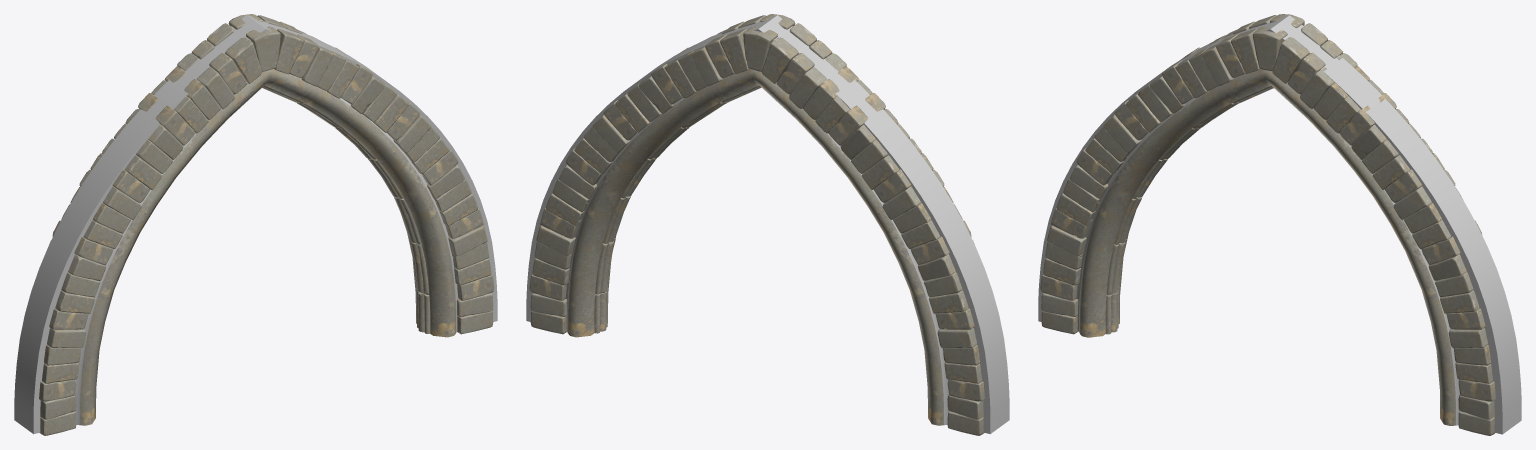
The model's file is SM_Arch_MainHall_01.fbx.
3 renders of one model, left to right at view 1: azimuth 30°, elevation 25°; view 2: azimuth 150°, elevation 25°; view 3: azimuth 330°, elevation 25°, orthographic.
Parts seen in each view (by area): view 1: SM_Arch_MainHall_01_LOD0; view 2: SM_Arch_MainHall_01_LOD0; view 3: SM_Arch_MainHall_01_LOD0.
Part boxes in pixels (x1=…): SM_Arch_MainHall_01_LOD0: x1=14, y1=14, x2=497, y2=435; SM_Arch_MainHall_01_LOD0: x1=526, y1=14, x2=1009, y2=435; SM_Arch_MainHall_01_LOD0: x1=1038, y1=14, x2=1521, y2=435.
Size of the model in its own units: 925 by 102 by 667.
Materials: 3 (2 with a texture image).
